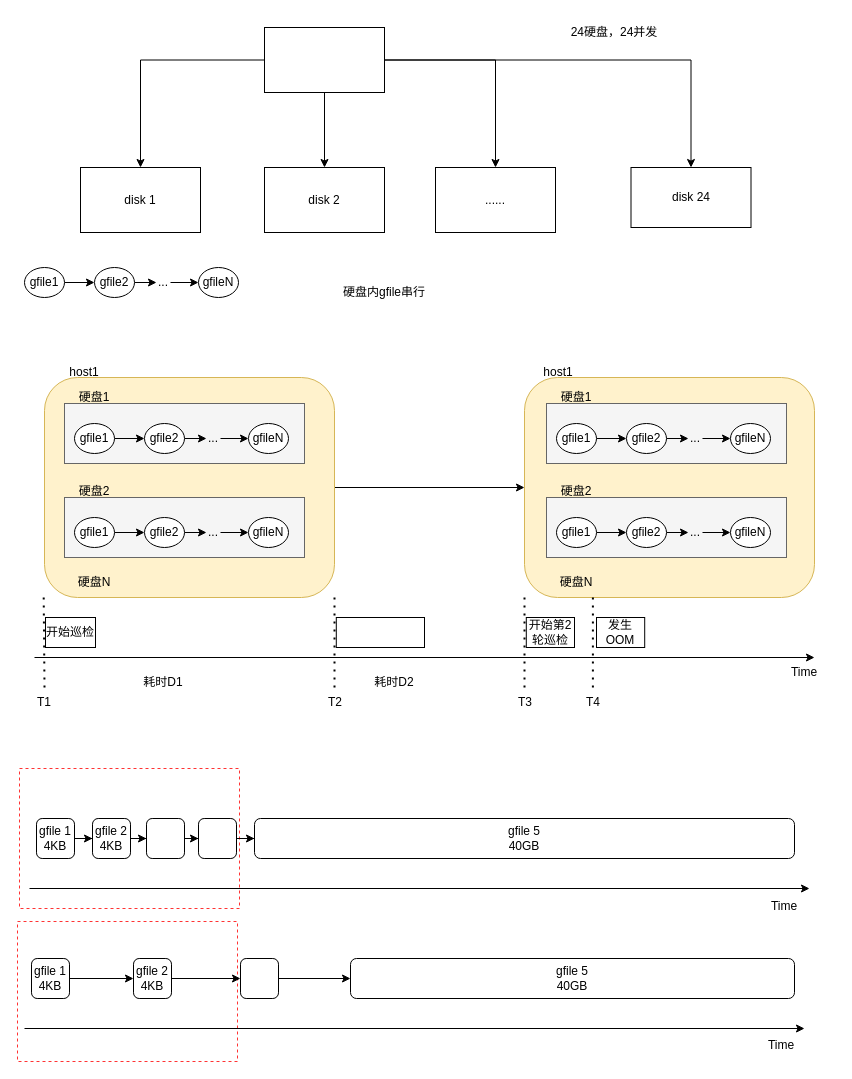
The diagram is 852 pixels wide and 1079 high, and some of its shapes have lost their labels. The box of each missing label's shape, as (x1, y1, x2, y2) in pixels:
gfile ... 4KB: (240, 958, 278, 998)
gfile 3 4KB: (146, 818, 184, 858)
gfile 4 4KB: (198, 818, 236, 858)
host: (264, 26, 384, 92)
一轮巡检完毕，waiting: (335, 616, 424, 648)
